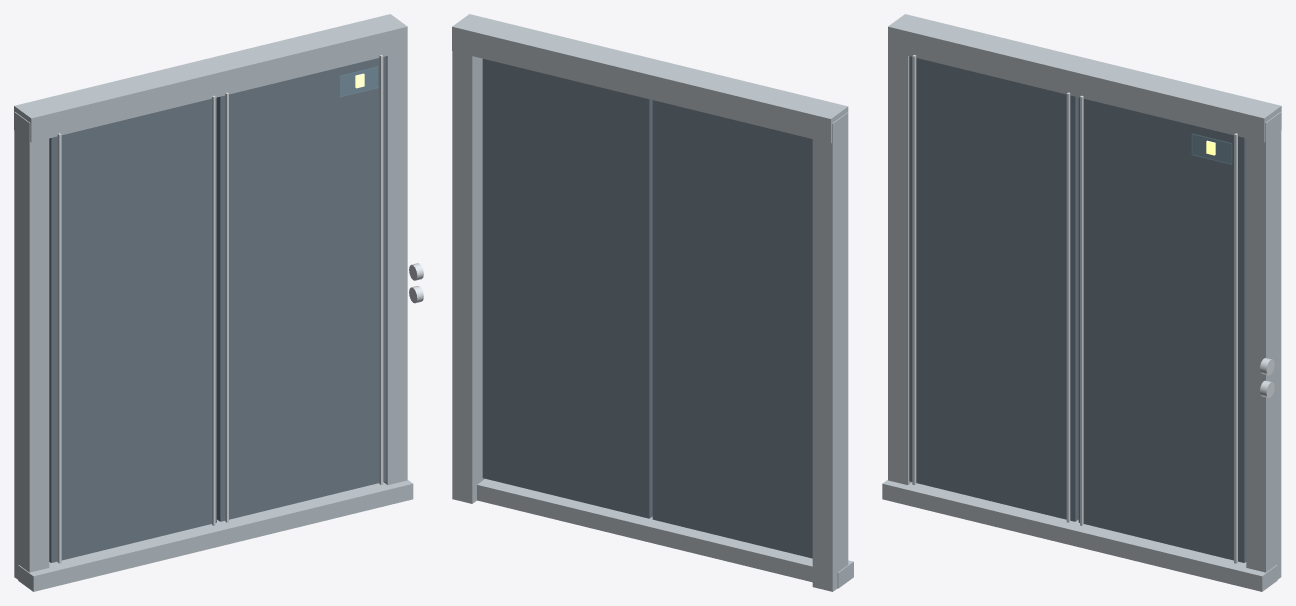
File: elevator_portal01.glb
3 renders of one model, left to right at view 1: azimuth 30°, elevation 25°; view 2: azimuth 150°, elevation 25°; view 3: azimuth 330°, elevation 25°, orthographic.
Visible parts, largest first — view 1: door_leaf_steel_painted_3, jamb_steel_brushed_0, header_steel_brushed_1, sill_steel_brushed_2, vertical_seam_chrome_4, floor_display_glass_tinted_5; view 2: door_leaf_steel_painted_3, jamb_steel_brushed_0, header_steel_brushed_1, sill_steel_brushed_2; view 3: door_leaf_steel_painted_3, jamb_steel_brushed_0, header_steel_brushed_1, sill_steel_brushed_2, vertical_seam_chrome_4, floor_display_glass_tinted_5.
Boxes of the visible parts, x1=… form: door_leaf_steel_painted_3: x1=49, y1=56, x2=386, y2=562; jamb_steel_brushed_0: x1=14, y1=51, x2=407, y2=579; header_steel_brushed_1: x1=14, y1=14, x2=407, y2=142; sill_steel_brushed_2: x1=18, y1=480, x2=413, y2=591; vertical_seam_chrome_4: x1=57, y1=55, x2=383, y2=563; floor_display_glass_tinted_5: x1=339, y1=66, x2=378, y2=97; door_leaf_steel_painted_3: x1=482, y1=58, x2=812, y2=558; jamb_steel_brushed_0: x1=452, y1=51, x2=848, y2=591; header_steel_brushed_1: x1=452, y1=14, x2=848, y2=143; sill_steel_brushed_2: x1=477, y1=479, x2=853, y2=588; door_leaf_steel_painted_3: x1=909, y1=56, x2=1246, y2=562; jamb_steel_brushed_0: x1=888, y1=51, x2=1281, y2=579; header_steel_brushed_1: x1=888, y1=14, x2=1281, y2=142; sill_steel_brushed_2: x1=882, y1=480, x2=1277, y2=591; vertical_seam_chrome_4: x1=912, y1=55, x2=1237, y2=563; floor_display_glass_tinted_5: x1=1192, y1=134, x2=1231, y2=164.
Bounding box in the file's own units: 2.34 × 2.71 × 0.253.
